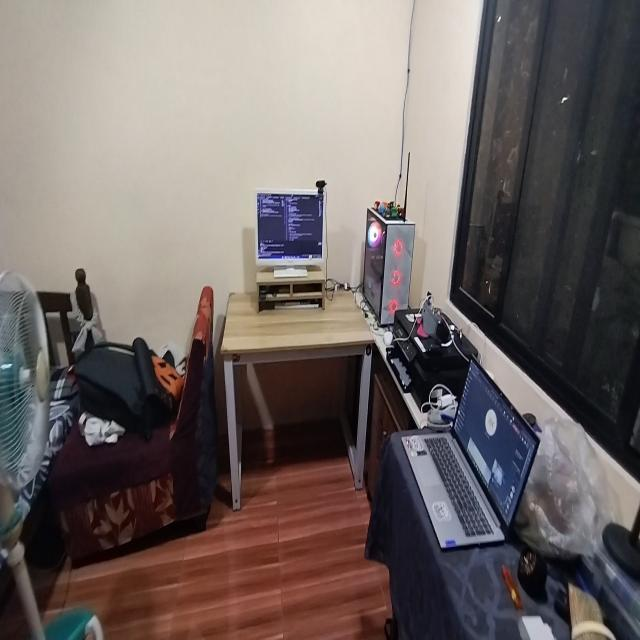table: (222, 283, 372, 506)
